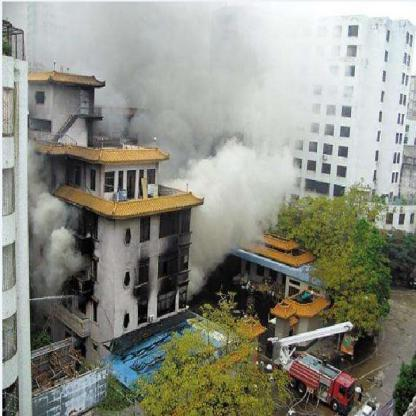smoke: (93, 4, 314, 152), (26, 150, 78, 313), (187, 207, 278, 297), (178, 152, 301, 208)
